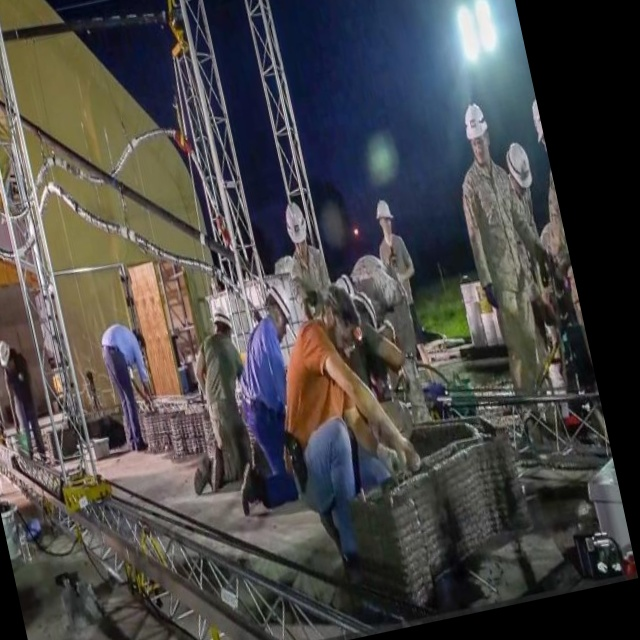Con_Casco: (263, 281, 300, 350), (460, 99, 496, 167), (282, 198, 313, 257), (373, 198, 398, 243)
